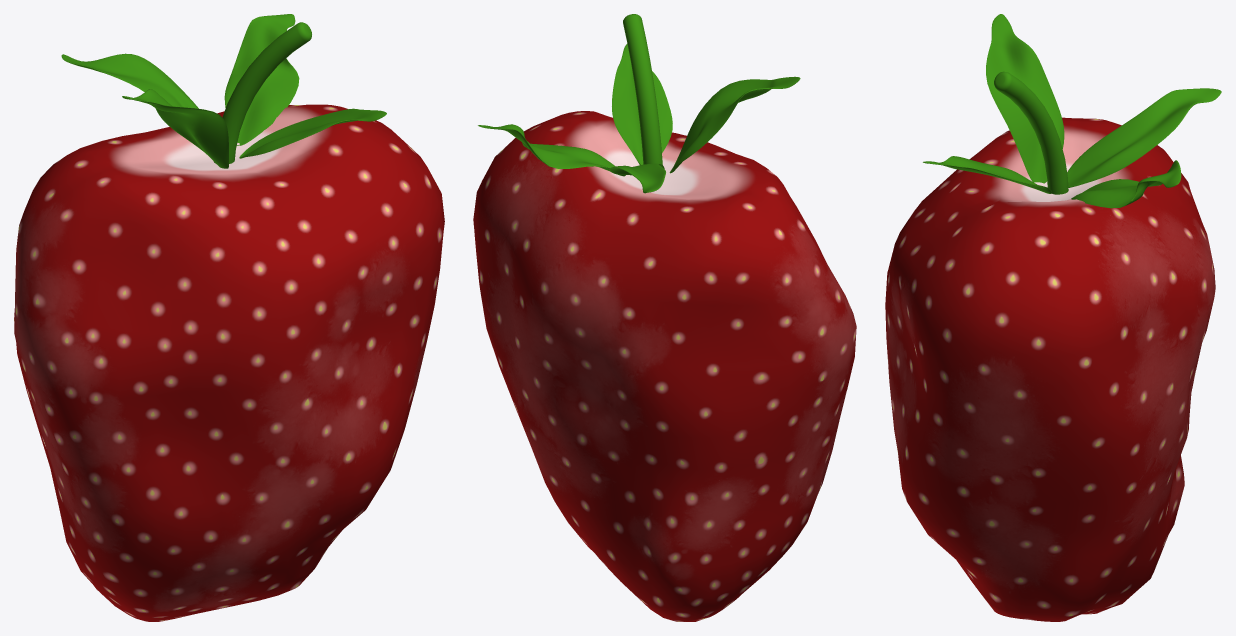
File: Strawberry_2.fbx
The picture shows the model from 3 angles, left to right: view 1: azimuth 30°, elevation 25°; view 2: azimuth 150°, elevation 25°; view 3: azimuth 270°, elevation 25°; orthographic projection. The views are drawn at different scales.
Visible parts, largest first — view 1: Strawberry, Hat; view 2: Strawberry, Hat; view 3: Strawberry, Hat.
Part boxes in pixels (box(x1,y1,x2,y2)): Strawberry: box(14, 104, 444, 621); Hat: box(61, 14, 386, 168); Strawberry: box(473, 111, 856, 621); Hat: box(478, 14, 800, 193); Strawberry: box(885, 117, 1215, 621); Hat: box(923, 14, 1221, 208).
Bounding box in the file's own units: 42.81 × 62.74 × 32.7.
2 materials, 1 textured.
